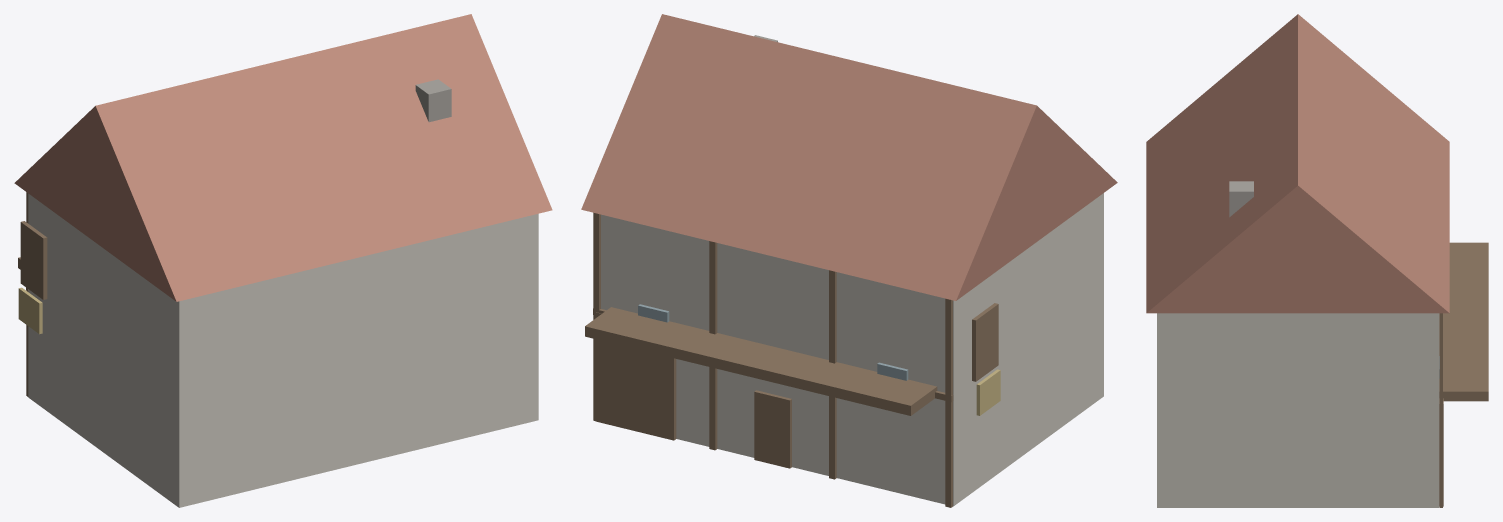
3 views of the same model, side by side, from view 1: azimuth 30°, elevation 25°; view 2: azimuth 150°, elevation 25°; view 3: azimuth 270°, elevation 25° (orthographic). The views are drawn at different scales.
Visible parts, largest first — view 1: architecture.inn; view 2: architecture.inn; view 3: architecture.inn.
Boxes of the visible parts, x1,y1,x2,y2 form: architecture.inn: [14, 14, 552, 507]; architecture.inn: [581, 14, 1117, 507]; architecture.inn: [1146, 14, 1488, 507].
Size of the model in its own units: 11.8 by 10.2 by 9.7.
